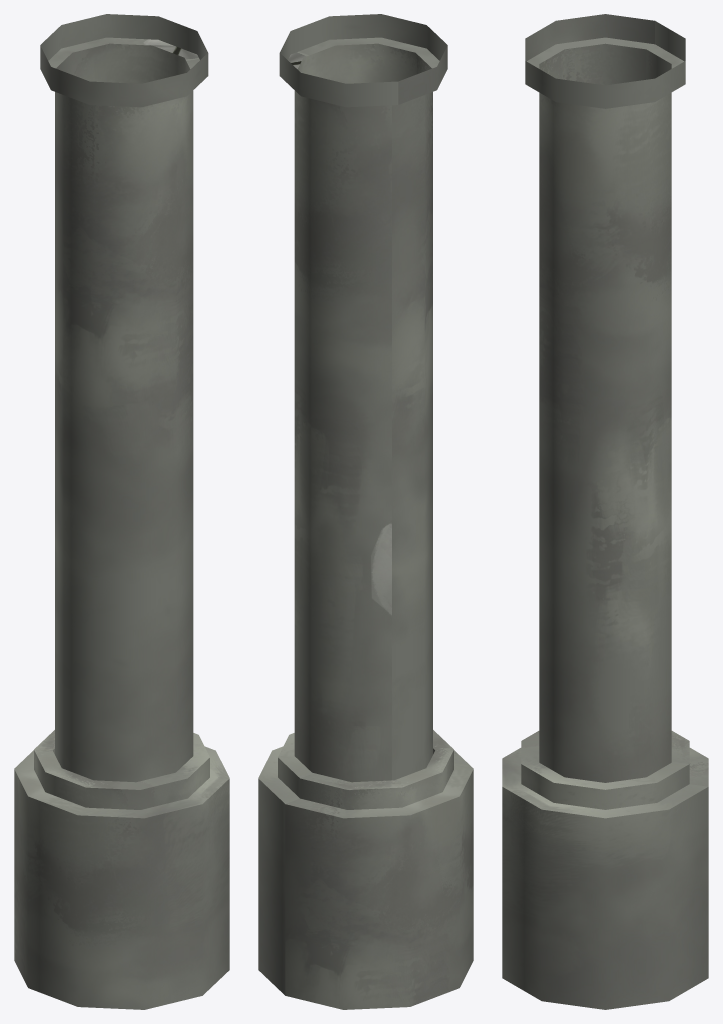
The model's file is pipe_2_01.fbx.
3 views of the same model, side by side, from view 1: azimuth 30°, elevation 25°; view 2: azimuth 150°, elevation 25°; view 3: azimuth 270°, elevation 25° (orthographic).
Parts seen in each view (by area): view 1: Object027; view 2: Object027; view 3: Object027.
Part boxes in pixels (box(x1,y1,x2,y2)): Object027: box(14, 14, 229, 1009); Object027: box(258, 14, 473, 1009); Object027: box(502, 14, 708, 1009).
Size of the model in its own units: 10.45 by 48.7 by 9.94.
